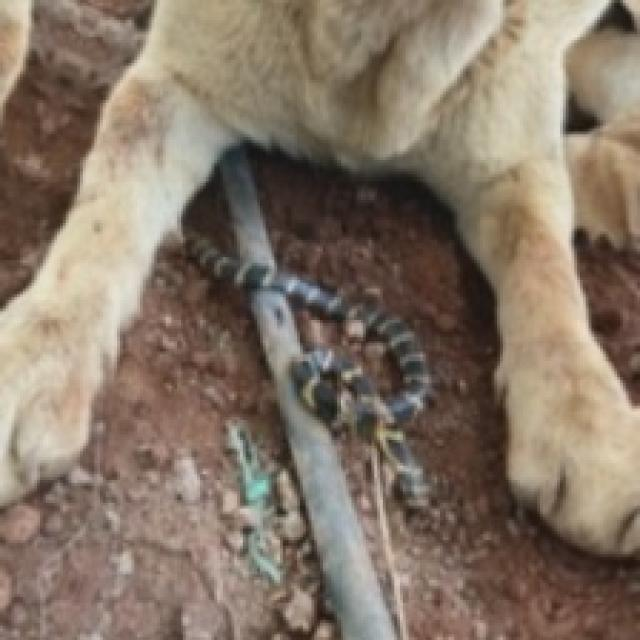king cobra: (0, 0, 637, 554), (271, 271, 429, 506)
